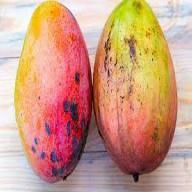apple: (93, 3, 180, 183), (14, 1, 91, 183)
